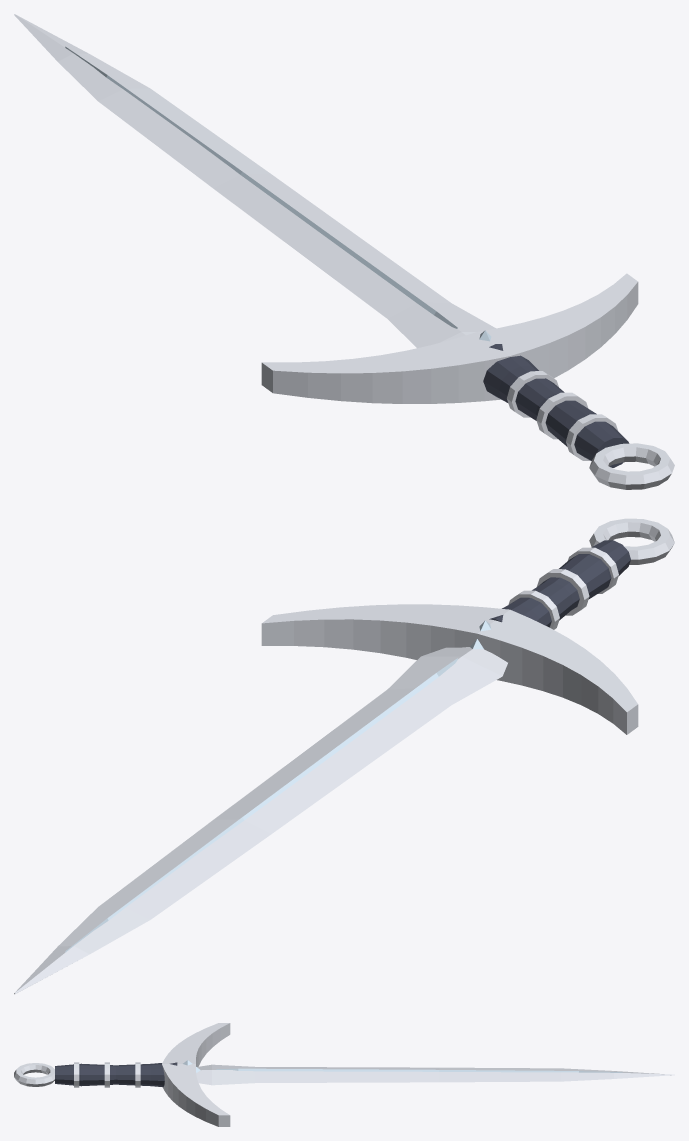
File: SpiritBlade.fbx
The picture shows the model from 3 angles, top to bottom: view 1: azimuth 30°, elevation 25°; view 2: azimuth 150°, elevation 25°; view 3: azimuth 270°, elevation 25°; orthographic projection. The views are drawn at different scales.
Visible parts, largest first — view 1: Blade, Guard, Grip, Pommel, Core, Wrap1; view 2: Blade, Guard, Grip, Pommel, Core, Wrap1; view 3: Blade, Guard, Grip, Core, Pommel.
Part boxes in pixels (x1,y1,x2,y2): Blade: [14, 14, 495, 348]; Guard: [261, 273, 638, 403]; Grip: [483, 344, 629, 467]; Pommel: [589, 443, 674, 489]; Core: [65, 46, 457, 328]; Wrap1: [536, 392, 588, 439]; Blade: [14, 647, 507, 994]; Guard: [261, 604, 638, 734]; Grip: [489, 540, 630, 627]; Pommel: [589, 518, 674, 564]; Core: [65, 658, 457, 952]; Wrap1: [537, 569, 589, 615]; Blade: [196, 1064, 674, 1085]; Guard: [162, 1023, 230, 1126]; Grip: [55, 1062, 177, 1087]; Core: [216, 1068, 622, 1072]; Pommel: [14, 1063, 54, 1086].
Bounding box in the file's own units: 2.5 × 0.38 × 7.57.
